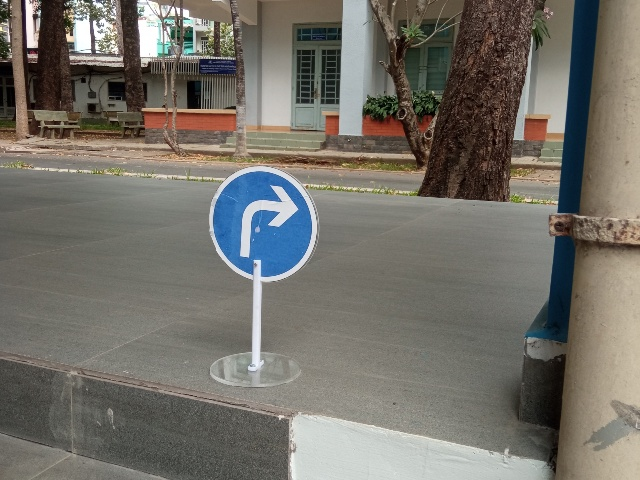Right_Sign: (210, 164, 319, 282)
